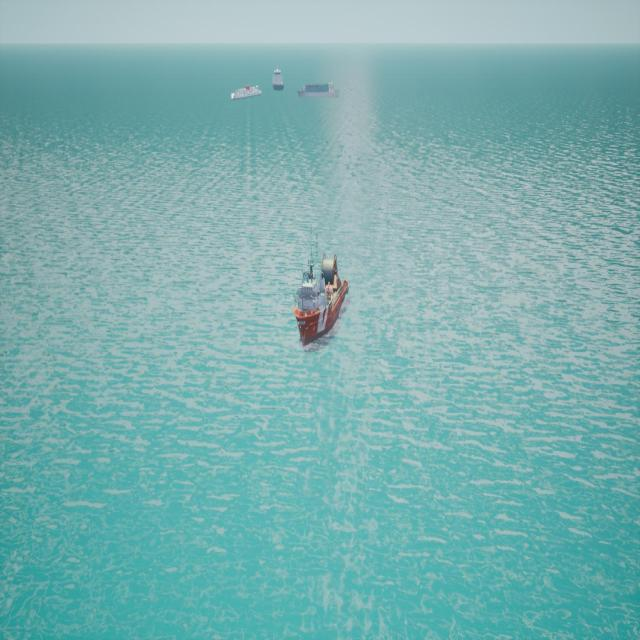tug boat: (295, 237, 349, 352)
